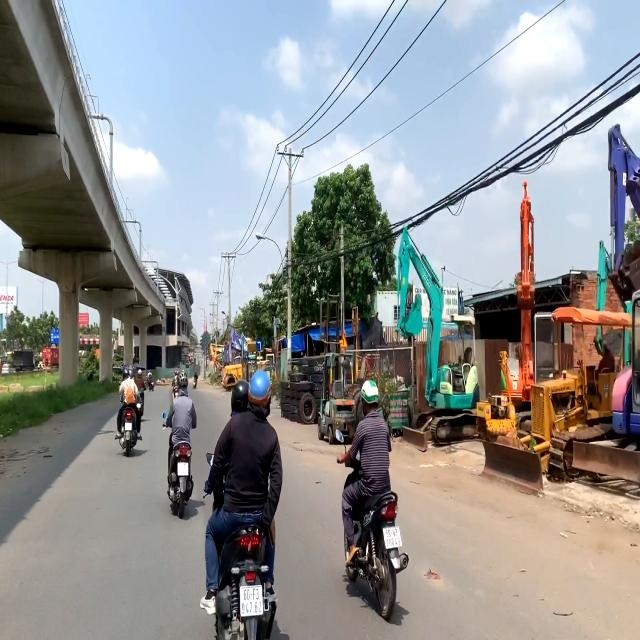bien_nguy_hiem: (255, 338, 262, 352)
